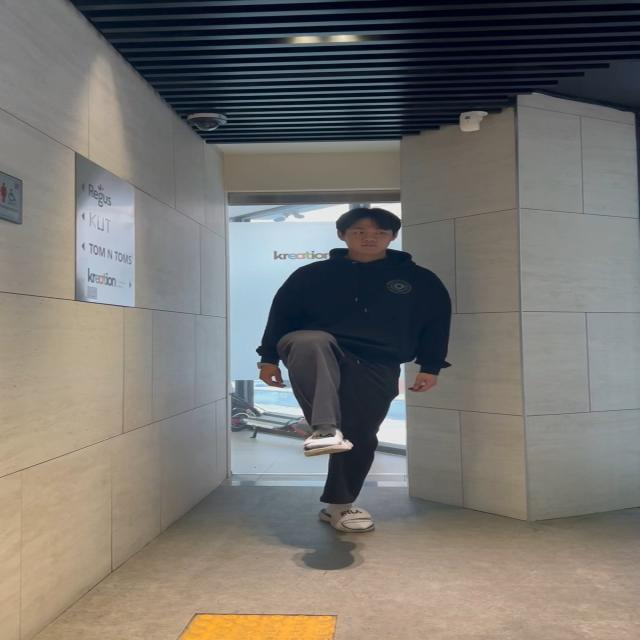knee: (265, 319, 357, 467)
